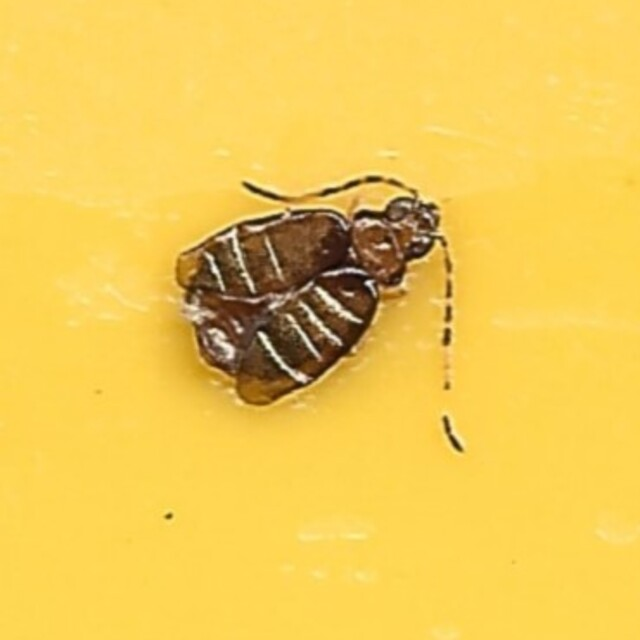Coleoptera: (173, 177, 467, 463)
